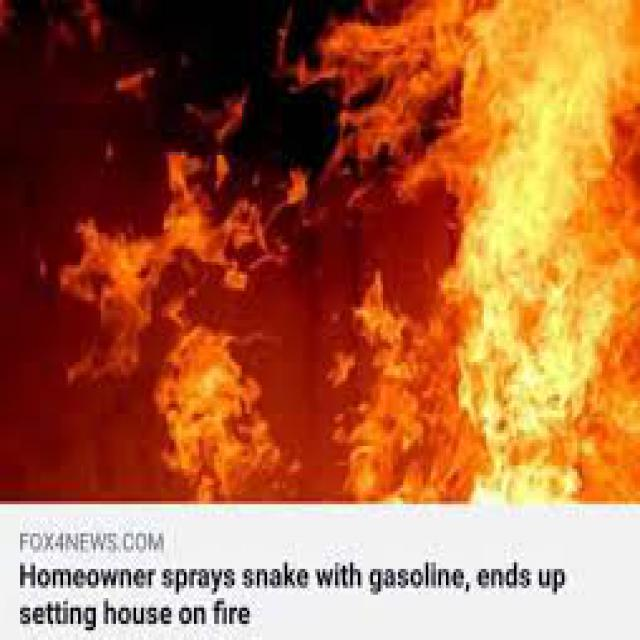fire: (318, 16, 638, 498), (38, 152, 216, 388), (103, 333, 320, 494)
